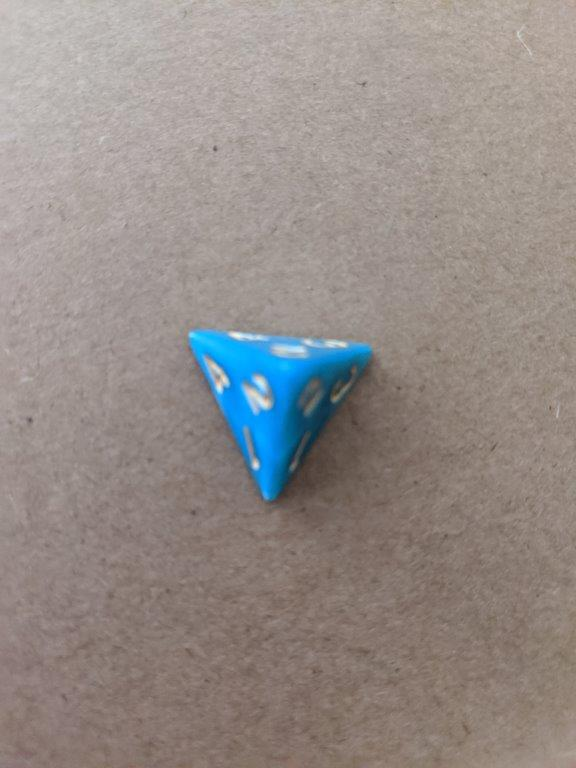d4-2: (183, 320, 379, 505)
